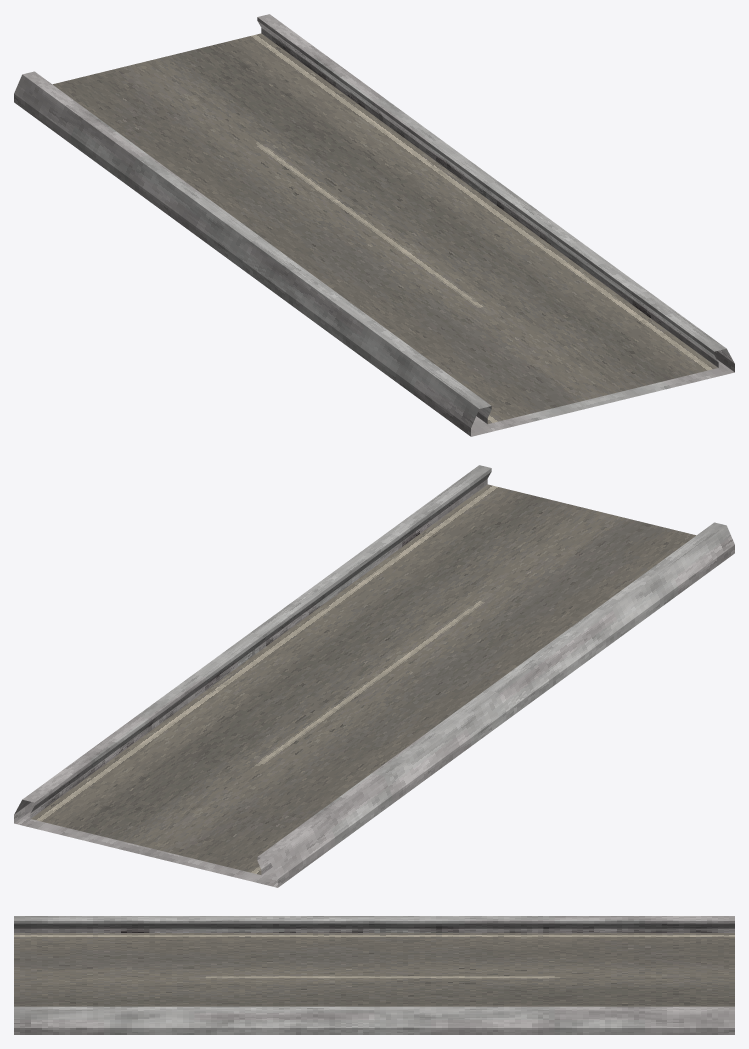
Rendered from straight3.glb.
3 renders of one model, top to bottom at view 1: azimuth 30°, elevation 25°; view 2: azimuth 150°, elevation 25°; view 3: azimuth 270°, elevation 25°, orthographic. The views are drawn at different scales.
Visible parts, largest first — view 1: road-Straight-Flat-Flat-Even-Center-Size3; view 2: road-Straight-Flat-Flat-Even-Center-Size3; view 3: road-Straight-Flat-Flat-Even-Center-Size3.
Part boxes in pixels (x1,y1,x2,y2): road-Straight-Flat-Flat-Even-Center-Size3: [14, 14, 734, 436]; road-Straight-Flat-Flat-Even-Center-Size3: [14, 465, 734, 887]; road-Straight-Flat-Flat-Even-Center-Size3: [14, 916, 734, 1034].
Bounding box in the file's own units: 1 × 0.0938 × 3.
2 materials, 2 textured.
